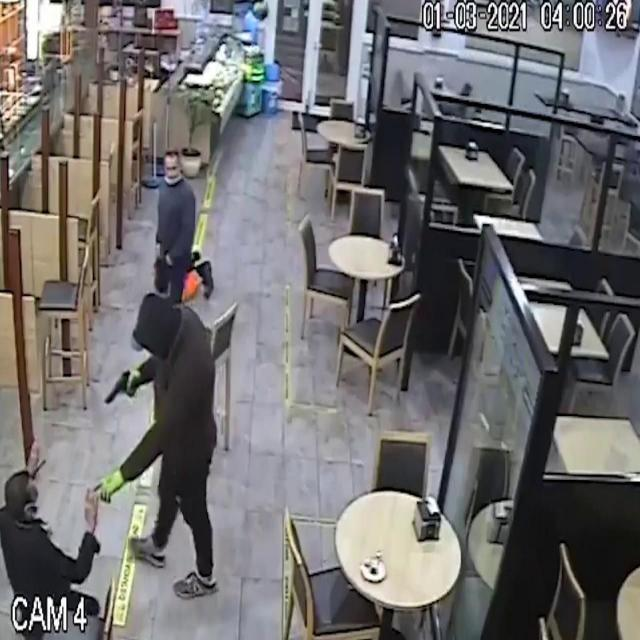weapon: (96, 361, 145, 420)
